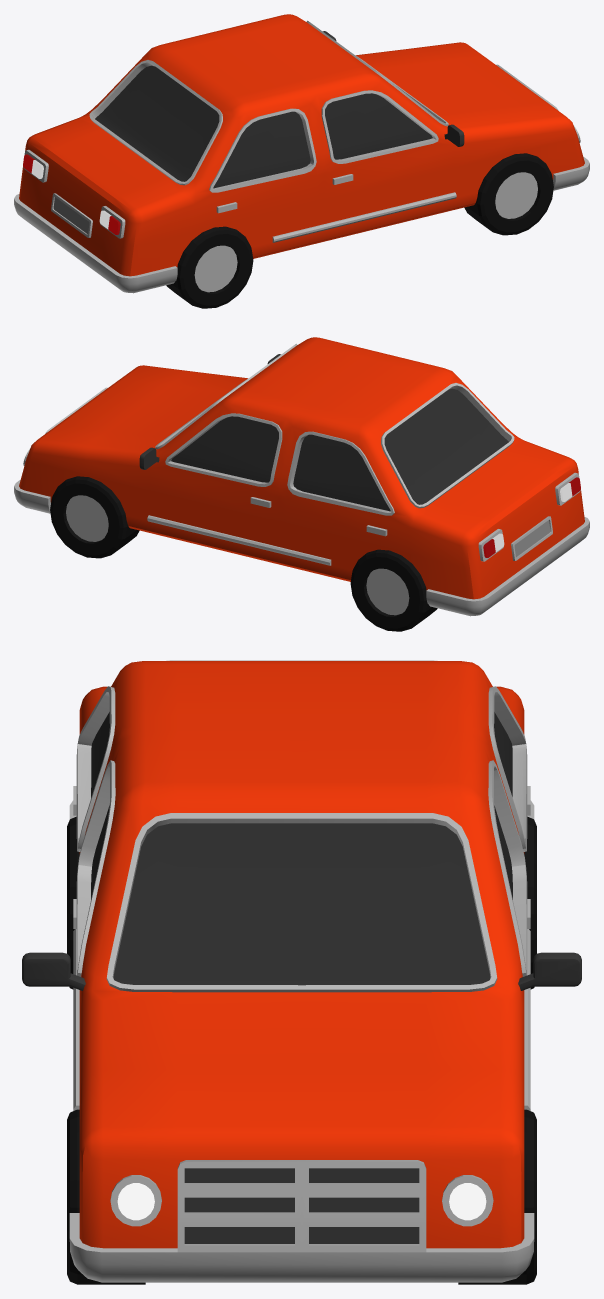
Rendered from RedCar.glb.
3 renders of one model, top to bottom at view 1: azimuth 30°, elevation 25°; view 2: azimuth 150°, elevation 25°; view 3: azimuth 270°, elevation 25°, orthographic. The views are drawn at different scales.
Visible parts, largest first — view 1: Car; view 2: Car; view 3: Car.
Boxes of the visible parts, x1,y1,x2,y2 form: Car: (14,14,589,308); Car: (14,337,589,631); Car: (22,660,581,1284).
Size of the model in its own units: 5.53 by 2.03 by 2.84.
